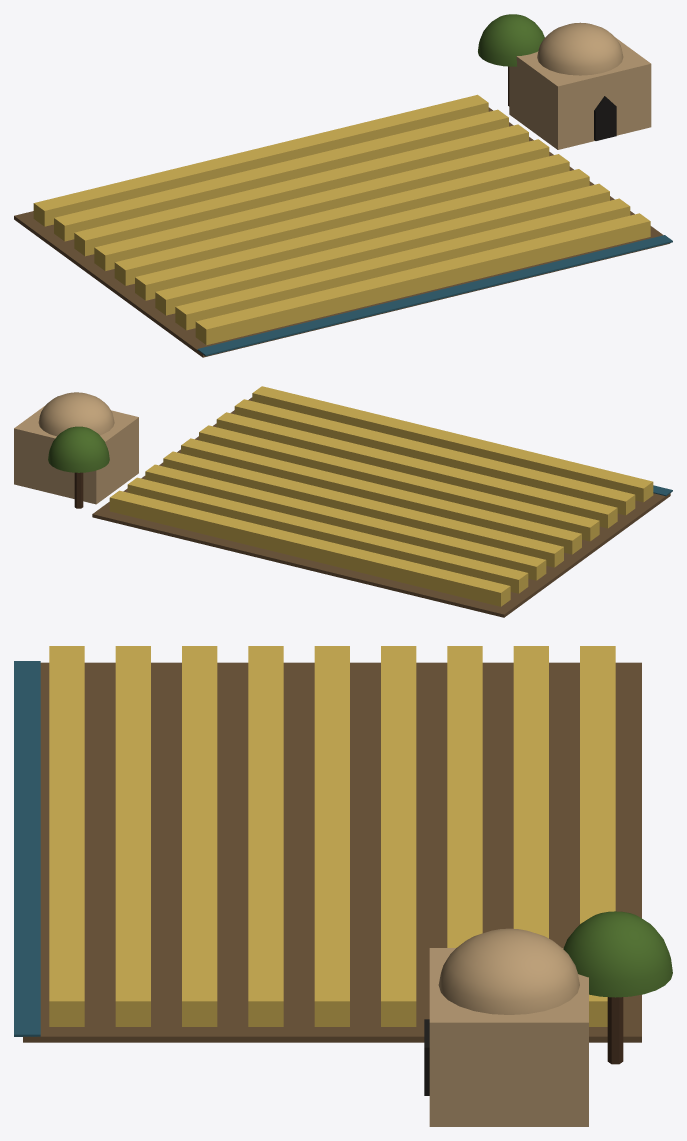
Rendered from farm.glb.
3 renders of one model, top to bottom at view 1: azimuth 30°, elevation 25°; view 2: azimuth 150°, elevation 25°; view 3: azimuth 270°, elevation 25°, orthographic. The views are drawn at different scales.
Parts seen in each view (by area): view 1: Farm; view 2: Farm; view 3: Farm.
Boxes of the visible parts, bbox=[...] form: Farm: bbox=[14, 14, 672, 357]; Farm: bbox=[14, 386, 672, 617]; Farm: bbox=[14, 646, 672, 1126].
Size of the model in its own units: 24.5 by 3.8 by 14.9.
